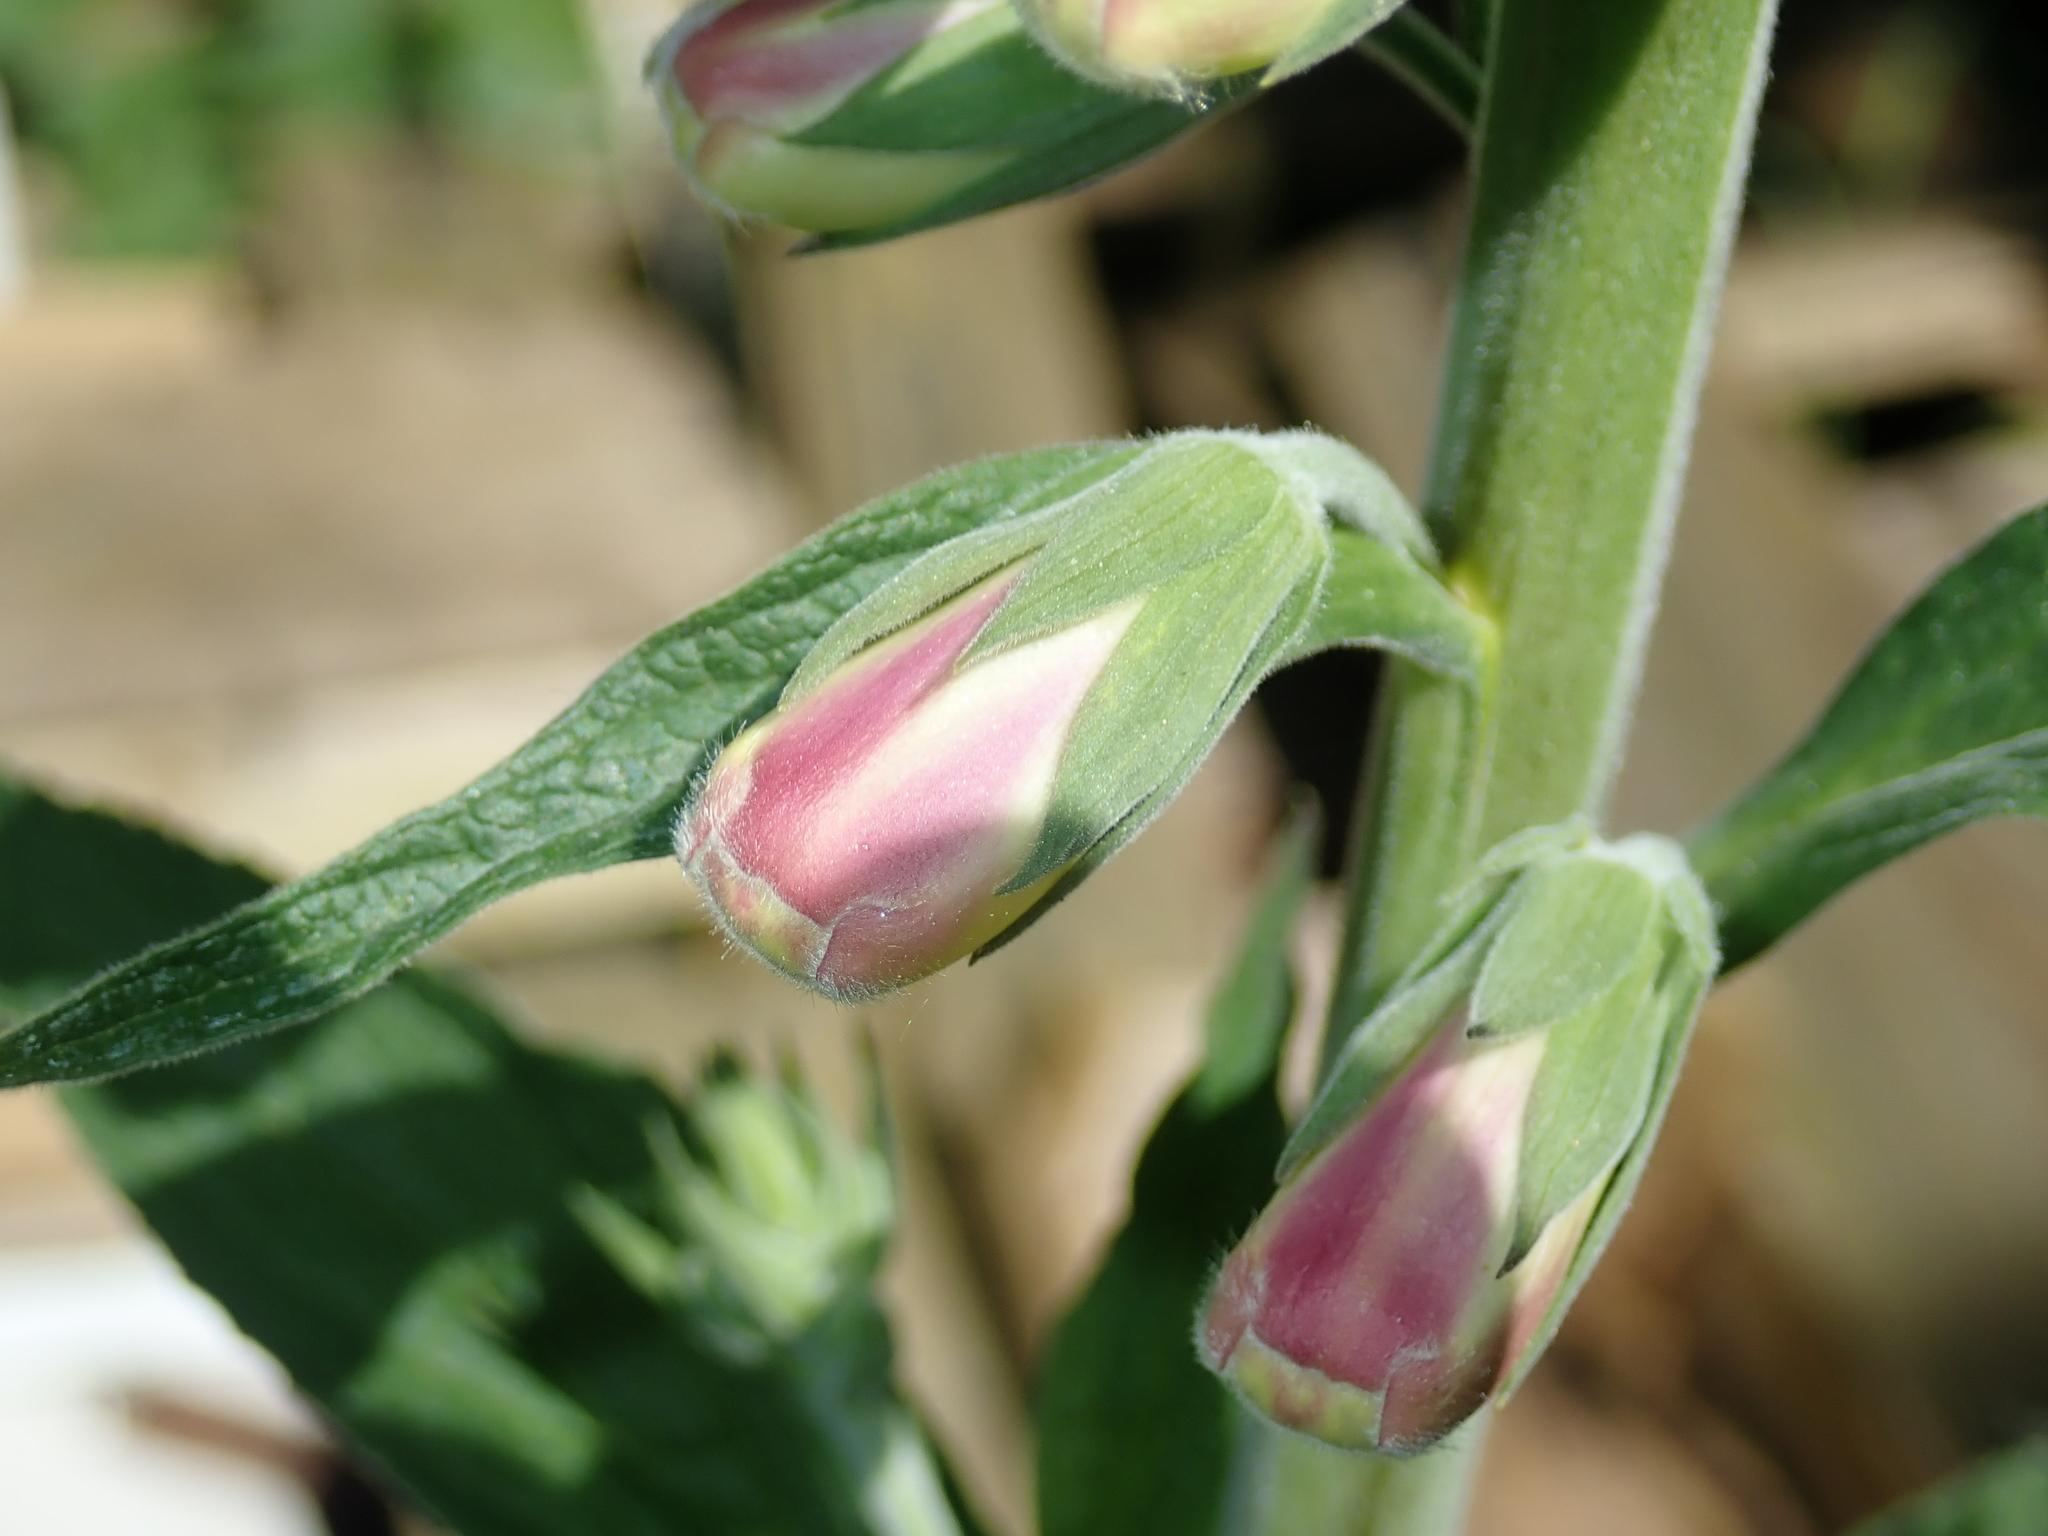Digitalis L: (710, 445, 1347, 999), (1176, 857, 1746, 1467)
